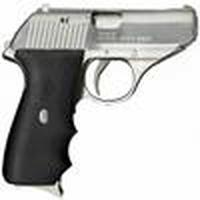gun: (2, 1, 199, 190)
